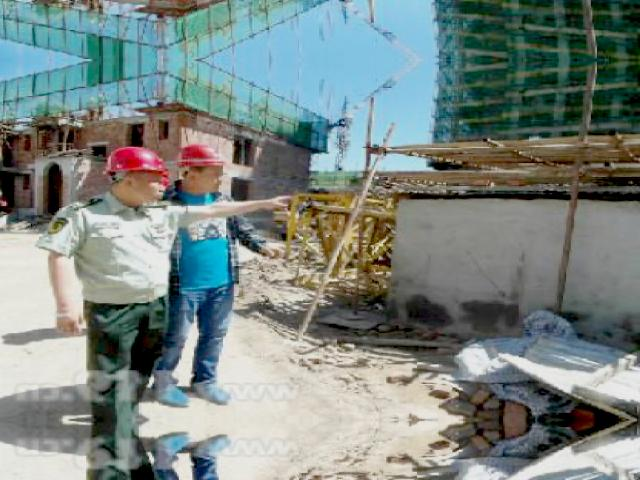Helmet: (106, 142, 180, 176), (171, 138, 230, 173)
